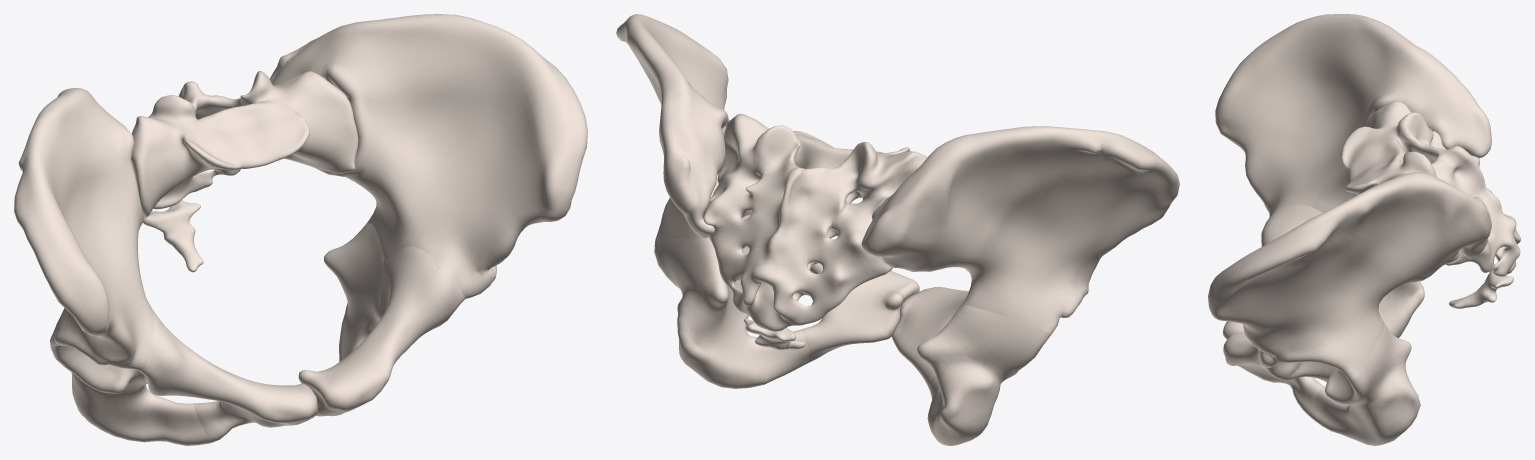
File: VH_F_Pelvis.glb
3 views of the same model, side by side, from view 1: azimuth 30°, elevation 25°; view 2: azimuth 150°, elevation 25°; view 3: azimuth 270°, elevation 25° (orthographic). The views are drawn at different scales.
Visible parts, largest first — view 1: VHF_ilium_compact_bone_L, VHF_ilium_compact_bone_R, VHF_sacrum, VHF_pubis_compact_bone_L, VHF_pubis_compact_bone_R, VHF_ischium_compact_bone_R, VHF_ischium_compact_bone_L, VHF_coccyx; view 2: VHF_ilium_compact_bone_R, VHF_sacrum, VHF_ilium_compact_bone_L, VHF_ischium_compact_bone_L, VHF_ischium_compact_bone_R, VHF_pubis_compact_bone_L, VHF_pubis_compact_bone_R, VHF_coccyx; view 3: VHF_ilium_compact_bone_L, VHF_ilium_compact_bone_R, VHF_sacrum, VHF_ischium_compact_bone_L, VHF_pubis_compact_bone_L, VHF_ischium_compact_bone_R, VHF_pubis_compact_bone_R, VHF_coccyx.
Boxes of the visible parts, box(x1,y1,x2,y2) form: VHF_ilium_compact_bone_L: box(269, 14, 587, 298); VHF_ilium_compact_bone_R: box(14, 88, 153, 371); VHF_sacrum: box(131, 71, 358, 217); VHF_pubis_compact_bone_L: box(298, 246, 465, 416); VHF_pubis_compact_bone_R: box(141, 309, 317, 442); VHF_ischium_compact_bone_R: box(50, 342, 209, 445); VHF_ischium_compact_bone_L: box(324, 221, 384, 361); VHF_coccyx: box(143, 200, 203, 272); VHF_ilium_compact_bone_R: box(861, 126, 1179, 334); VHF_sacrum: box(703, 113, 927, 331); VHF_ilium_compact_bone_L: box(616, 14, 750, 240); VHF_ischium_compact_bone_L: box(654, 238, 809, 388); VHF_ischium_compact_bone_R: box(917, 305, 1051, 445); VHF_pubis_compact_bone_L: box(745, 247, 919, 362); VHF_pubis_compact_bone_R: box(892, 287, 968, 389); VHF_coccyx: box(744, 318, 805, 349); VHF_ilium_compact_bone_L: box(1208, 172, 1491, 379); VHF_ilium_compact_bone_R: box(1215, 14, 1491, 217); VHF_sacrum: box(1341, 101, 1520, 276); VHF_ischium_compact_bone_L: box(1310, 323, 1420, 445); VHF_pubis_compact_bone_L: box(1223, 332, 1324, 416); VHF_ischium_compact_bone_R: box(1378, 281, 1424, 337); VHF_pubis_compact_bone_R: box(1223, 205, 1322, 339); VHF_coccyx: box(1449, 269, 1513, 308).
Bounding box in the file's own units: 0.326 × 0.1974 × 0.188.
